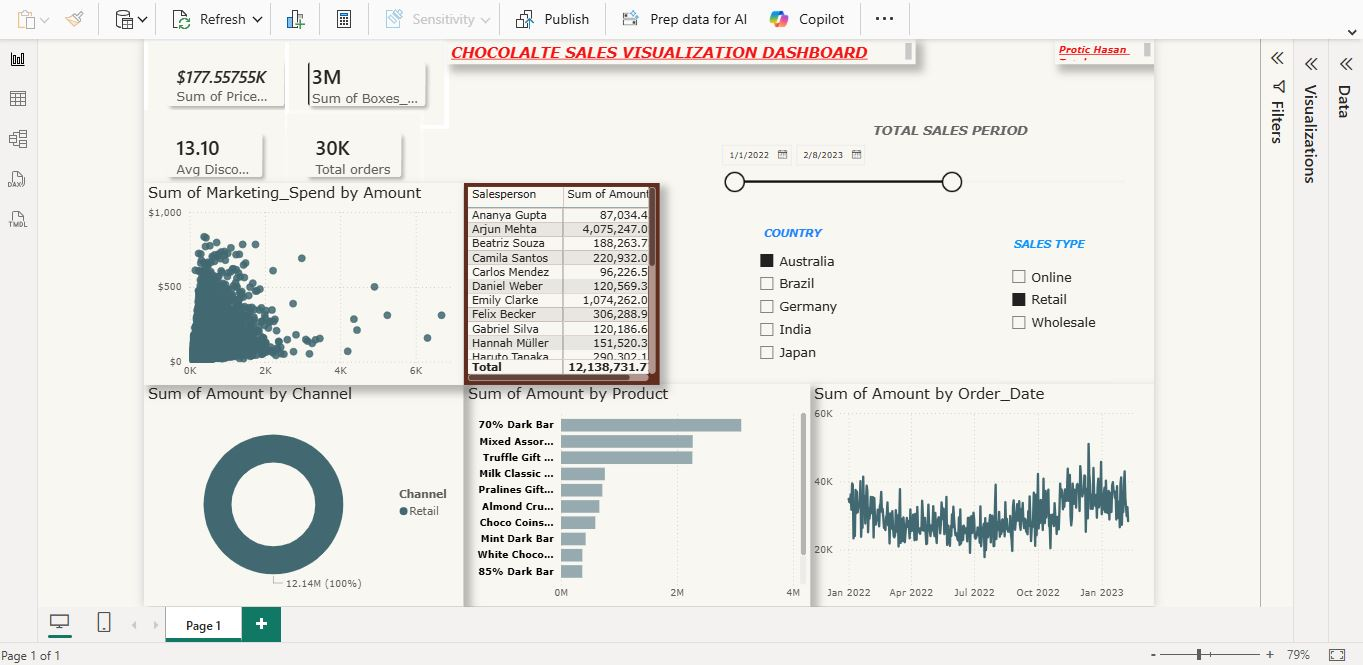

Layout of this report page (visuals, bound fields, positions):
{"tool":"powerbi","page":{"name":"Page 1","canvas":[1280,720],"ordinal":0},"visuals":[{"type":"cardVisual","fields":{"Data":["Sum(Chocolate_Sales.Price_per_Box)"]},"box":[0,0,207.5,114.4],"z":0},{"type":"cardVisual","fields":{"Data":["Sum(Chocolate_Sales.Boxes_Shipped)"]},"box":[179.3,0,207.5,114.4],"z":1000},{"type":"cardVisual","fields":{"Data":["Chocolate_Sales.Total orders"]},"box":[176.5,90.4,179.3,114.4],"z":2000},{"type":"cardVisual","fields":{"Data":["Chocolate_Sales.Avg Discount"]},"box":[0,90.4,179.3,114.4],"z":3000},{"type":"lineChart","fields":{"Category":["Chocolate_Sales.Order_Date"],"Y":["Sum(Chocolate_Sales.Amount)"]},"box":[844.2,437.6,436.2,282.4],"z":4000},{"type":"clusteredBarChart","fields":{"Category":["Chocolate_Sales.Product"],"Y":["Sum(Chocolate_Sales.Amount)"]},"box":[405.2,437.6,439.1,282.4],"z":5000},{"type":"donutChart","fields":{"Category":["Chocolate_Sales.Channel"],"Y":["Sum(Chocolate_Sales.Amount)"]},"box":[0,437.6,405.2,282.4],"z":6000},{"type":"scatterChart","fields":{"Y":["Sum(Chocolate_Sales.Marketing_Spend)"],"X":["Chocolate_Sales.Amount"]},"box":[0,182.1,405.2,255.5],"z":7000},{"type":"pivotTable","fields":{"Rows":["Chocolate_Sales.Salesperson"],"Values":["Sum(Chocolate_Sales.Amount)"]},"box":[405.2,182.1,248.5,255.5],"z":8000},{"type":"textbox","box":[384,0,594.4,32.5],"z":9000},{"type":"slicer","fields":{"Values":["Chocolate_Sales.Country"]},"box":[768,261.2,151.1,156.7],"z":10000},{"type":"slicer","fields":{"Values":["Chocolate_Sales.Channel"]},"box":[1087.1,280.9,135.5,151.1],"z":11000},{"type":"slicer","fields":{"Values":["Chocolate_Sales.Order_Date"]},"box":[720,124.2,547.8,80.5],"z":12000},{"type":"textbox","box":[780.7,232.9,87.5,28.2],"z":13000},{"type":"textbox","box":[1098.4,247.1,120,33.9],"z":14000},{"type":"textbox","box":[919.1,100.2,218.8,36.7],"z":15000},{"type":"textbox","box":[1154.8,0,125.6,32.5],"z":16000}]}

Visuals, with their boxes on the page's 1280x720 design canvas (x1, y1, x2, y2). These are canvas units, not pixel positions in the 1363x665 screenshot, which may show the page scaled, cropped or inside an application window:
cardVisual - Sum(Chocolate_Sales.Price_per_Box): box(0, 0, 208, 114)
cardVisual - Sum(Chocolate_Sales.Boxes_Shipped): box(179, 0, 387, 114)
cardVisual - Chocolate_Sales.Total orders: box(176, 90, 356, 205)
cardVisual - Chocolate_Sales.Avg Discount: box(0, 90, 179, 205)
lineChart - Chocolate_Sales.Order_Date x Sum(Chocolate_Sales.Amount): box(844, 438, 1280, 720)
clusteredBarChart - Chocolate_Sales.Product x Sum(Chocolate_Sales.Amount): box(405, 438, 844, 720)
donutChart - Chocolate_Sales.Channel x Sum(Chocolate_Sales.Amount): box(0, 438, 405, 720)
scatterChart - Sum(Chocolate_Sales.Marketing_Spend) x Chocolate_Sales.Amount: box(0, 182, 405, 438)
pivotTable - Chocolate_Sales.Salesperson x Sum(Chocolate_Sales.Amount): box(405, 182, 654, 438)
textbox: box(384, 0, 978, 32)
slicer - Chocolate_Sales.Country: box(768, 261, 919, 418)
slicer - Chocolate_Sales.Channel: box(1087, 281, 1223, 432)
slicer - Chocolate_Sales.Order_Date: box(720, 124, 1268, 205)
textbox: box(781, 233, 868, 261)
textbox: box(1098, 247, 1218, 281)
textbox: box(919, 100, 1138, 137)
textbox: box(1155, 0, 1280, 32)
